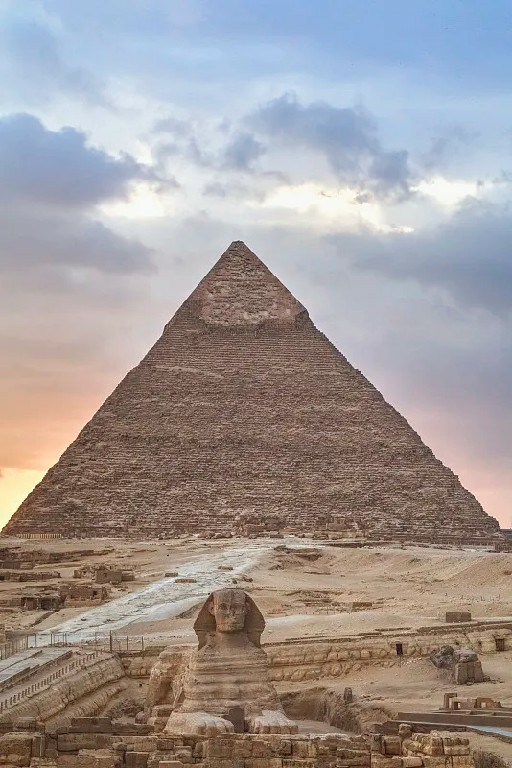Pyramid: (1, 241, 507, 554)
